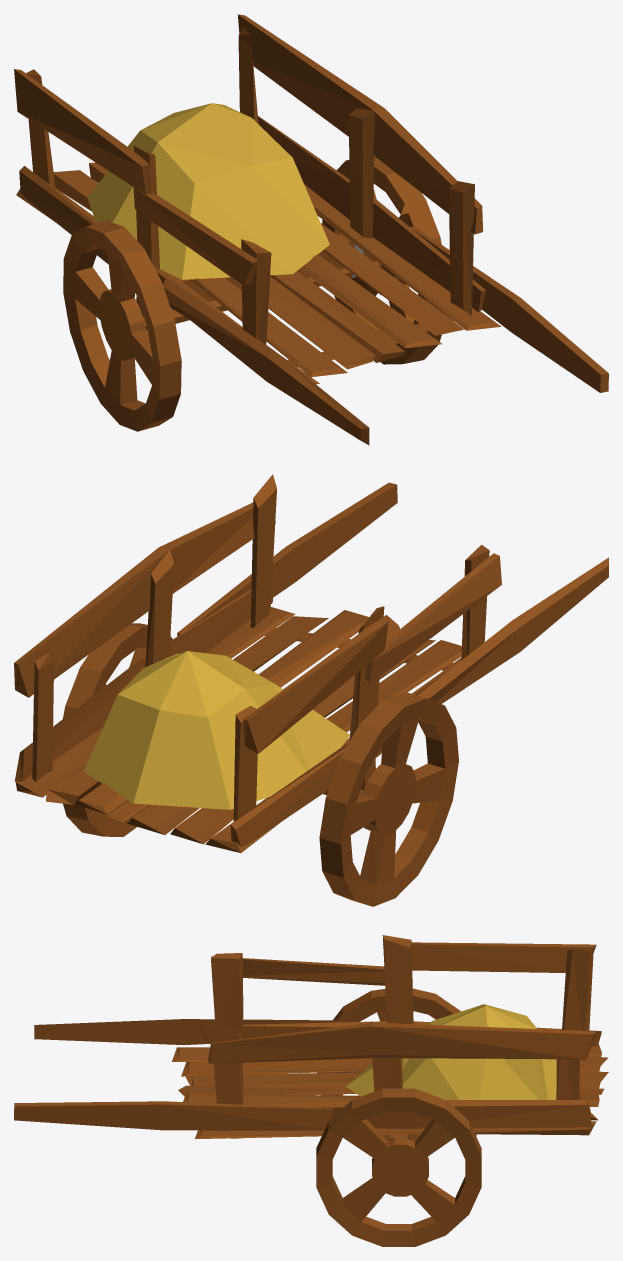
The model's file is carreta.fbx.
3 views of the same model, one above another, from view 1: azimuth 30°, elevation 25°; view 2: azimuth 150°, elevation 25°; view 3: azimuth 270°, elevation 25° (orthographic). The views are drawn at different scales.
Parts seen in each view (by area): view 1: Cube; view 2: Cube; view 3: Cube.
Part boxes in pixels (x1,y1,x2,y2): Cube: (14, 14, 608, 445); Cube: (14, 474, 608, 906); Cube: (14, 935, 608, 1246).
Size of the model in its own units: 317 by 283 by 705.
